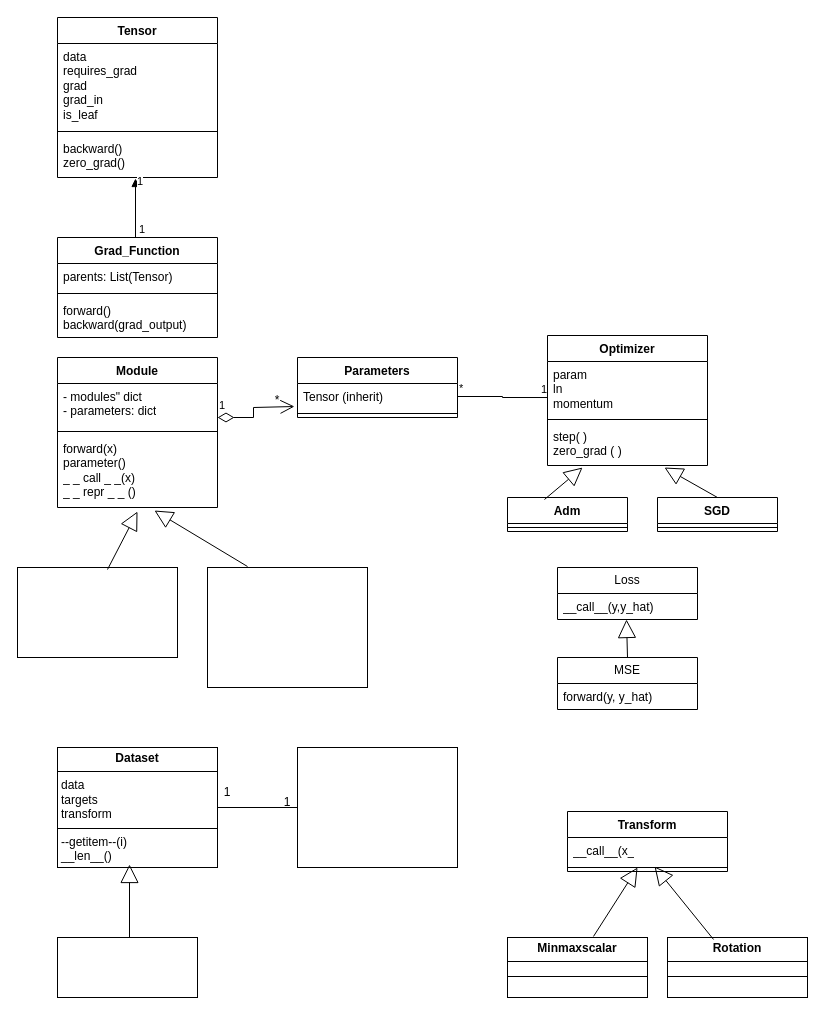
This 825x1015 diagram has some shape labels left out. Here are the shapes that lost their labels. From the top down, the centre of each, then its label:
At (97,612): "Relu forward ()".
At (287,627): "Linear in_features out_features weight:parameters bias:parameters forward(x)".
At (377,807): "Dataloader dataset batch_size shuffle __iter__() __next__(x)".
At (127,967): "Mnist".
